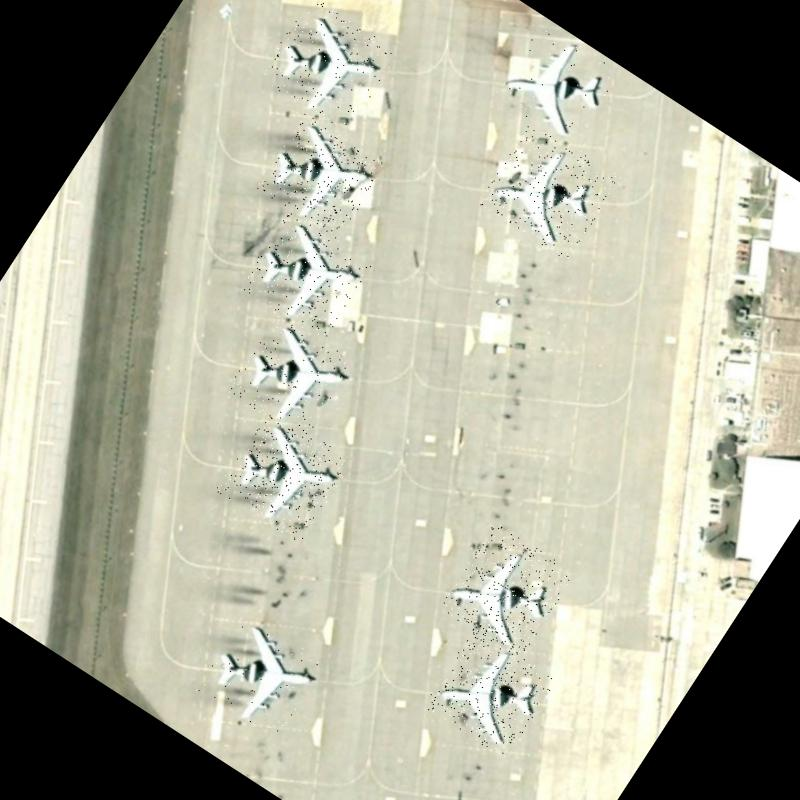A7: (478, 120, 622, 262), (438, 521, 576, 661), (215, 407, 353, 545), (258, 0, 399, 134), (238, 208, 374, 342), (423, 626, 557, 760), (195, 608, 328, 743), (226, 310, 357, 442), (255, 113, 386, 243), (493, 20, 622, 147)
